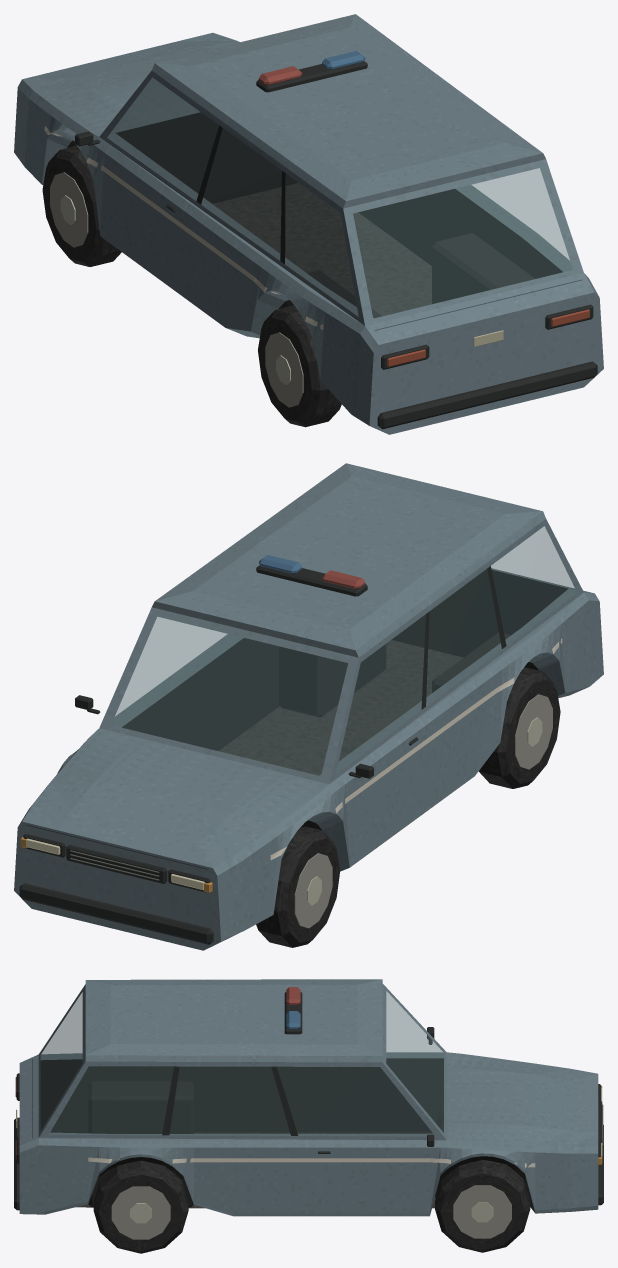
Rendered from vehicle_police_suv.glb.
The picture shows the model from 3 angles, top to bottom: view 1: azimuth 30°, elevation 25°; view 2: azimuth 150°, elevation 25°; view 3: azimuth 270°, elevation 25°; orthographic projection. The views are drawn at different scales.
Parts seen in each view (by area): view 1: closed_body, glazing, roof_body; view 2: closed_body, glazing, roof_body; view 3: closed_body, glazing, roof_body.
Part boxes in pixels (x1,y1,x2,y2): closed_body: [14, 32, 603, 434]; glazing: [107, 77, 572, 318]; roof_body: [152, 14, 545, 208]; closed_body: [14, 519, 603, 950]; glazing: [111, 526, 576, 775]; roof_body: [152, 463, 545, 657]; closed_body: [14, 984, 603, 1253]; glazing: [40, 991, 443, 1136]; roof_body: [85, 979, 382, 1062].
Size of the model in its own units: 2.25 by 1.89 by 4.96.
2 materials, 2 textured.
